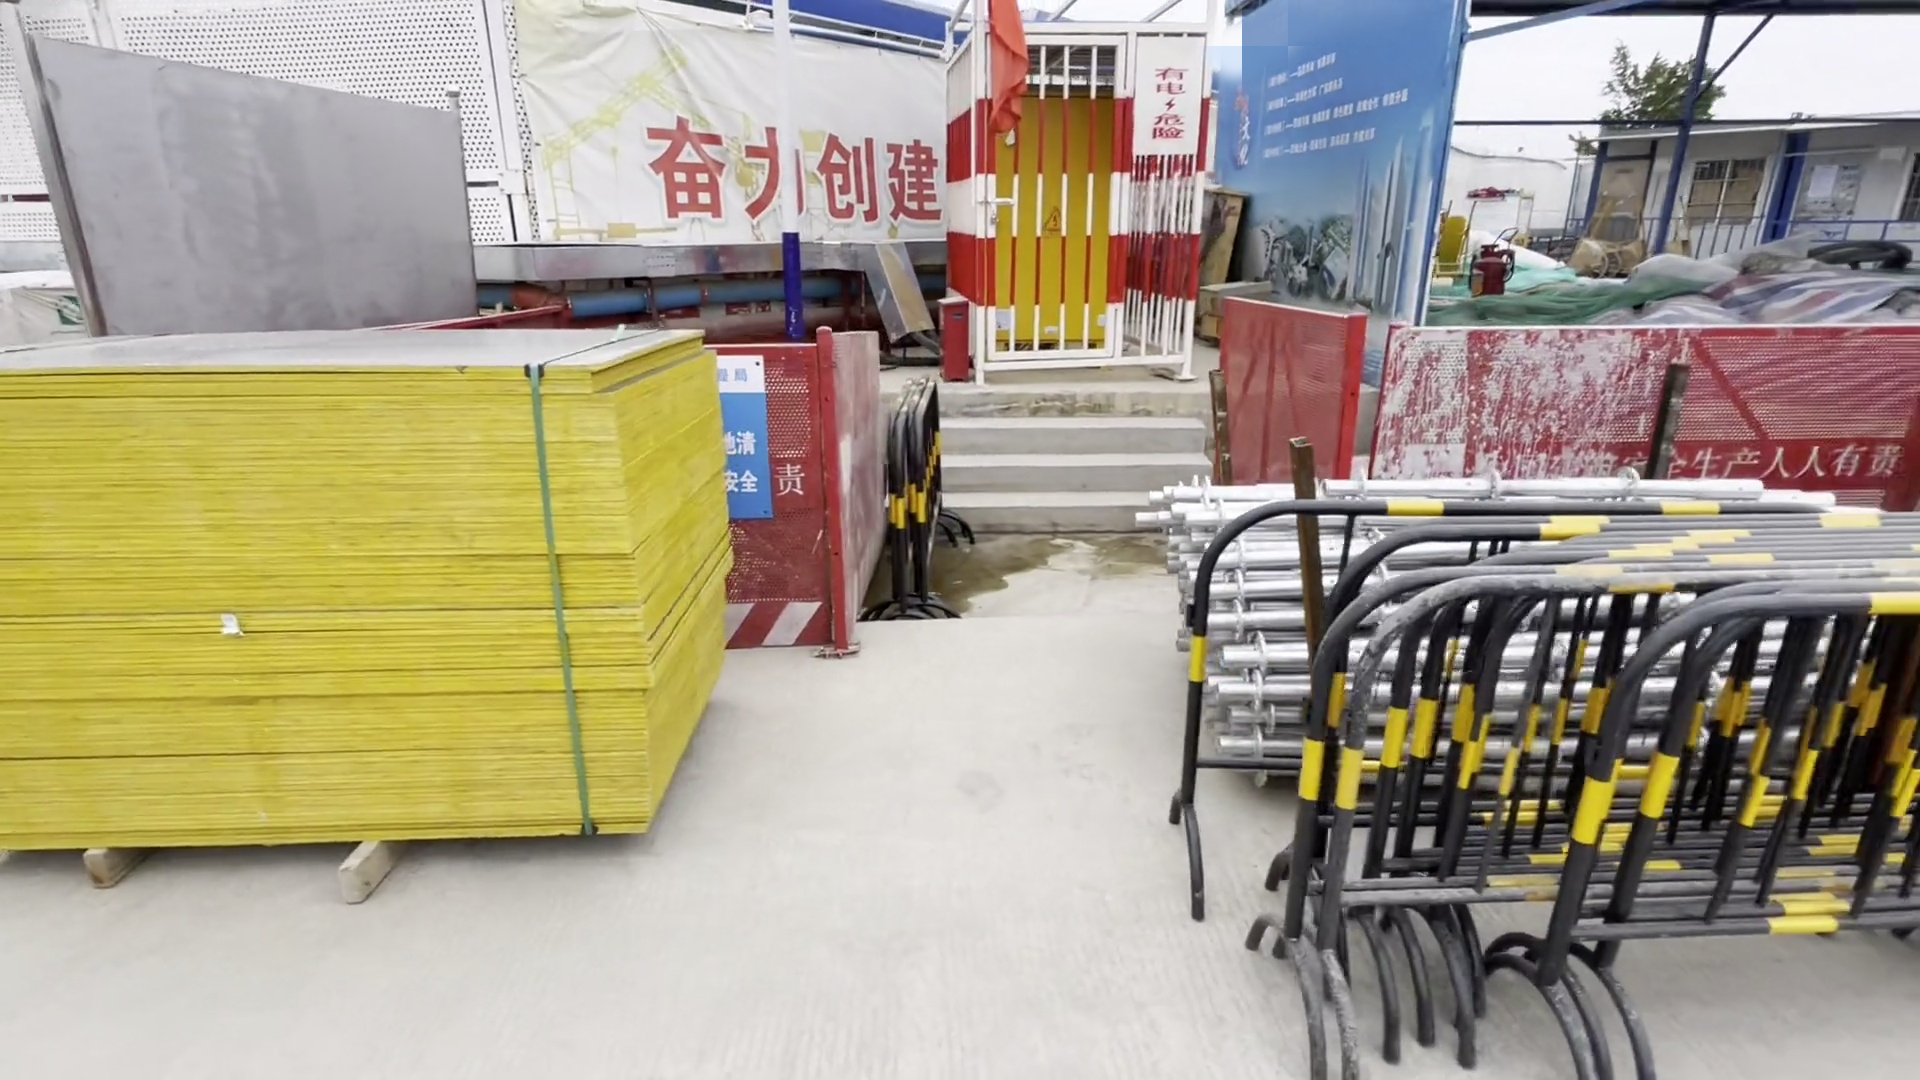board: (1, 320, 680, 845)
ebox: (978, 94, 1133, 349)
fence: (1254, 497, 1920, 947), (1249, 309, 1920, 522)
scaffold: (1164, 476, 1342, 760)
slogan: (655, 116, 928, 237)
